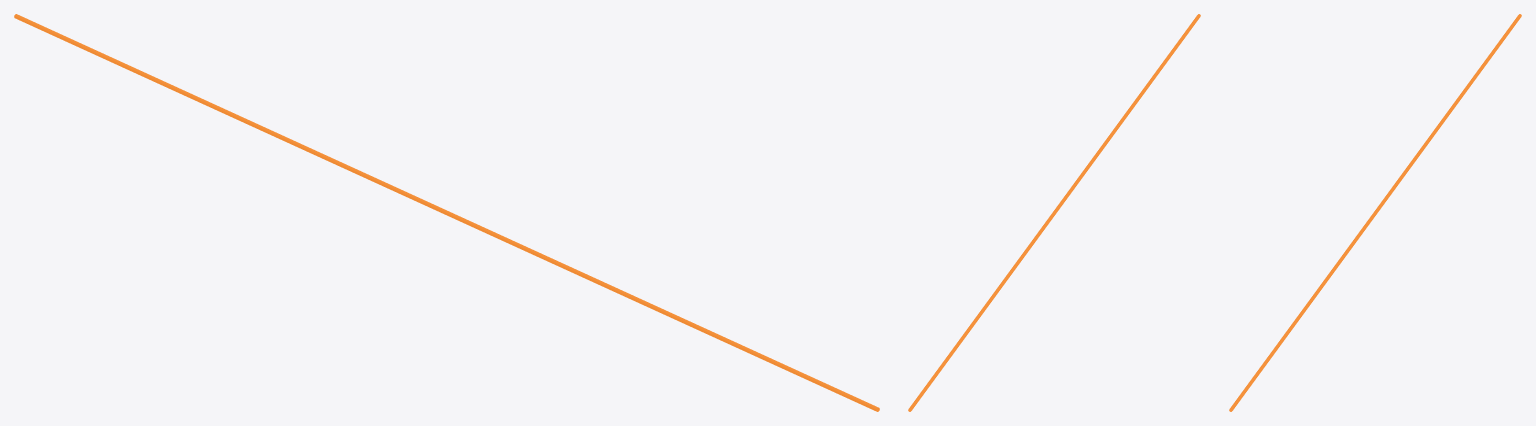
3 views of the same model, side by side, from view 1: azimuth 30°, elevation 25°; view 2: azimuth 150°, elevation 25°; view 3: azimuth 330°, elevation 25° (orthographic). The views are drawn at different scales.
Parts seen in each view (by area): view 1: BezierCurve.003; view 2: BezierCurve.003; view 3: BezierCurve.003.
Part boxes in pixels (<box>): BezierCurve.003: <box>14,14,879,411</box>; BezierCurve.003: <box>908,14,1200,411</box>; BezierCurve.003: <box>1229,14,1521,411</box>.
Size of the model in its own units: 6.2 by 0.1 by 26.88.
